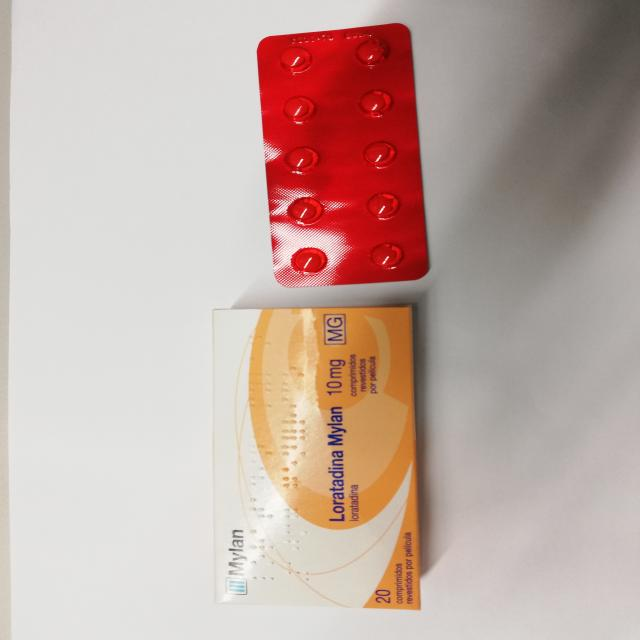Pill: (350, 133, 411, 175), (278, 239, 333, 278), (357, 189, 413, 226), (274, 143, 332, 178), (270, 90, 326, 126), (361, 237, 413, 275), (346, 82, 400, 118), (266, 42, 318, 79), (343, 36, 396, 71), (283, 196, 330, 226)
